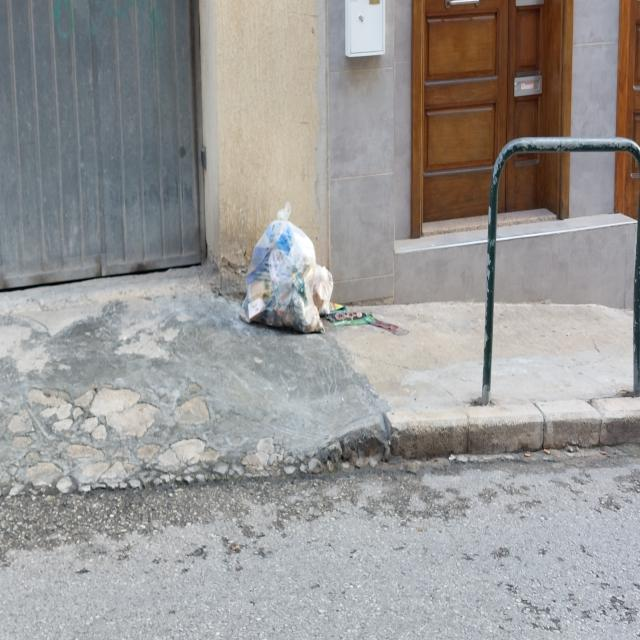Organic Waste -White Bag-: (244, 219, 332, 338)
